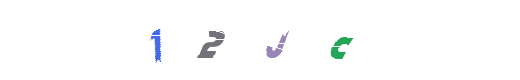1: (117, 0, 197, 80)
2: (197, 0, 277, 80)
C: (300, 0, 380, 80)
J: (220, 0, 300, 80)
